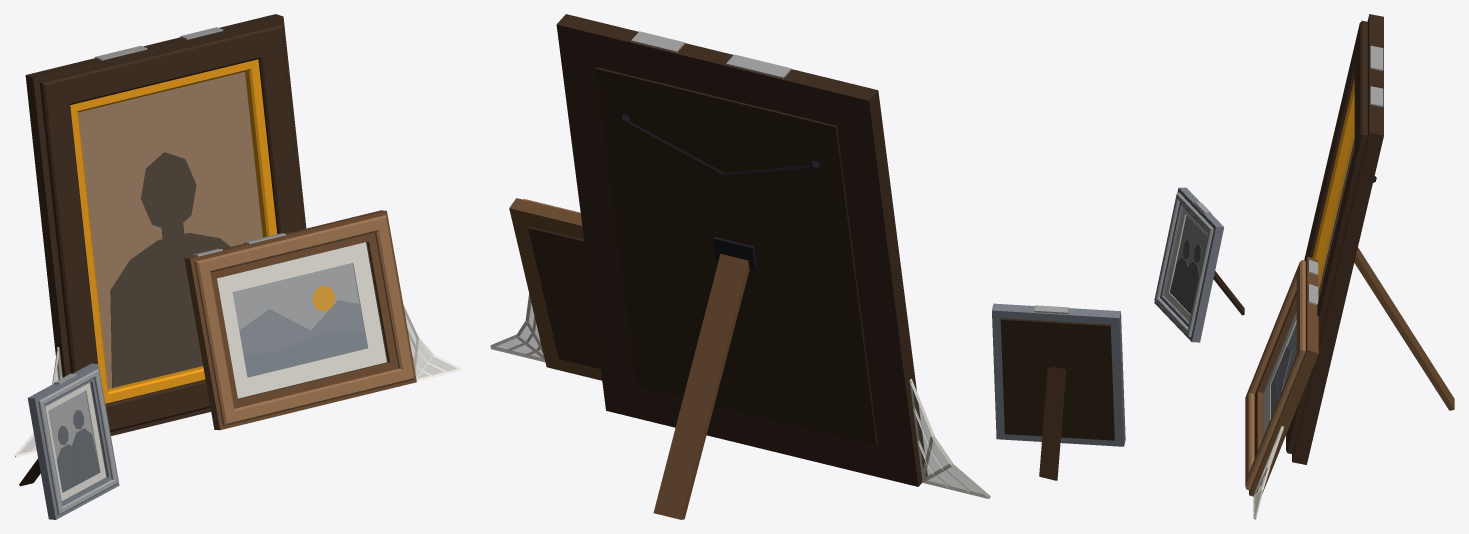
The picture shows the model from 3 angles, left to right: view 1: azimuth 30°, elevation 25°; view 2: azimuth 150°, elevation 25°; view 3: azimuth 270°, elevation 25°; orthographic projection. The views are drawn at different scales.
Parts seen in each view (by area): view 1: portrait_frame.glass, portrait_frame.moulding, portrait_frame.photo, landscape_frame.glass, portrait_frame.picture, landscape_frame.crown, landscape_frame.moulding, landscape_frame.mat, portrait_frame.slip, small_frame.glass, landscape_frame.photo, landscape_frame.picture (+9 smaller); view 2: portrait_frame.backing, portrait_frame.moulding, small_frame.backing, portrait_frame.strut, landscape_frame.backing, small_frame.moulding, landscape_frame.moulding, dust.cobweb_strands, small_frame.strut, dust.cobweb_film, dust.patches, portrait_frame.hardware; view 3: portrait_frame.moulding, landscape_frame.moulding, landscape_frame.crown, small_frame.glass, small_frame.moulding, portrait_frame.slip, portrait_frame.strut, small_frame.bead, landscape_frame.glass, small_frame.picture, dust.patches, small_frame.photo (+5 smaller).
Part boxes in pixels (<box>): portrait_frame.glass: <box>78,72,262,388</box>; portrait_frame.moulding: <box>25,14,306,435</box>; portrait_frame.photo: <box>78,72,262,388</box>; landscape_frame.glass: <box>217,242,387,398</box>; portrait_frame.picture: <box>110,152,230,387</box>; landscape_frame.crown: <box>194,215,414,425</box>; landscape_frame.moulding: <box>184,210,416,430</box>; landscape_frame.mat: <box>217,242,386,398</box>; portrait_frame.slip: <box>70,59,277,403</box>; small_frame.glass: <box>46,382,106,501</box>; landscape_frame.photo: <box>232,263,359,330</box>; landscape_frame.picture: <box>239,300,364,353</box>; portrait_frame.backing: <box>596,67,877,445</box>; portrait_frame.moulding: <box>556,14,927,486</box>; small_frame.backing: <box>1000,318,1114,440</box>; portrait_frame.strut: <box>653,254,749,519</box>; landscape_frame.backing: <box>528,226,600,368</box>; small_frame.moulding: <box>992,303,1125,446</box>; landscape_frame.moulding: <box>509,198,601,380</box>; dust.cobweb_strands: <box>490,293,990,498</box>; small_frame.strut: <box>1039,366,1066,480</box>; dust.cobweb_film: <box>496,302,982,493</box>; dust.patches: <box>631,31,1069,314</box>; portrait_frame.hardware: <box>619,114,820,269</box>; portrait_frame.moulding: <box>1286,14,1383,464</box>; landscape_frame.moulding: <box>1249,256,1318,496</box>; landscape_frame.crown: <box>1245,260,1305,490</box>; small_frame.glass: <box>1164,207,1207,321</box>; small_frame.moulding: <box>1154,187,1224,342</box>; portrait_frame.slip: <box>1312,79,1354,290</box>; portrait_frame.strut: <box>1354,247,1454,410</box>; small_frame.bead: <box>1154,192,1213,336</box>; landscape_frame.glass: <box>1262,308,1296,438</box>; small_frame.picture: <box>1170,240,1201,314</box>; dust.patches: <box>1194,45,1383,305</box>; small_frame.photo: <box>1174,215,1206,273</box>.
Size of the model in its own units: 1.05 by 0.7326 by 0.5983.
